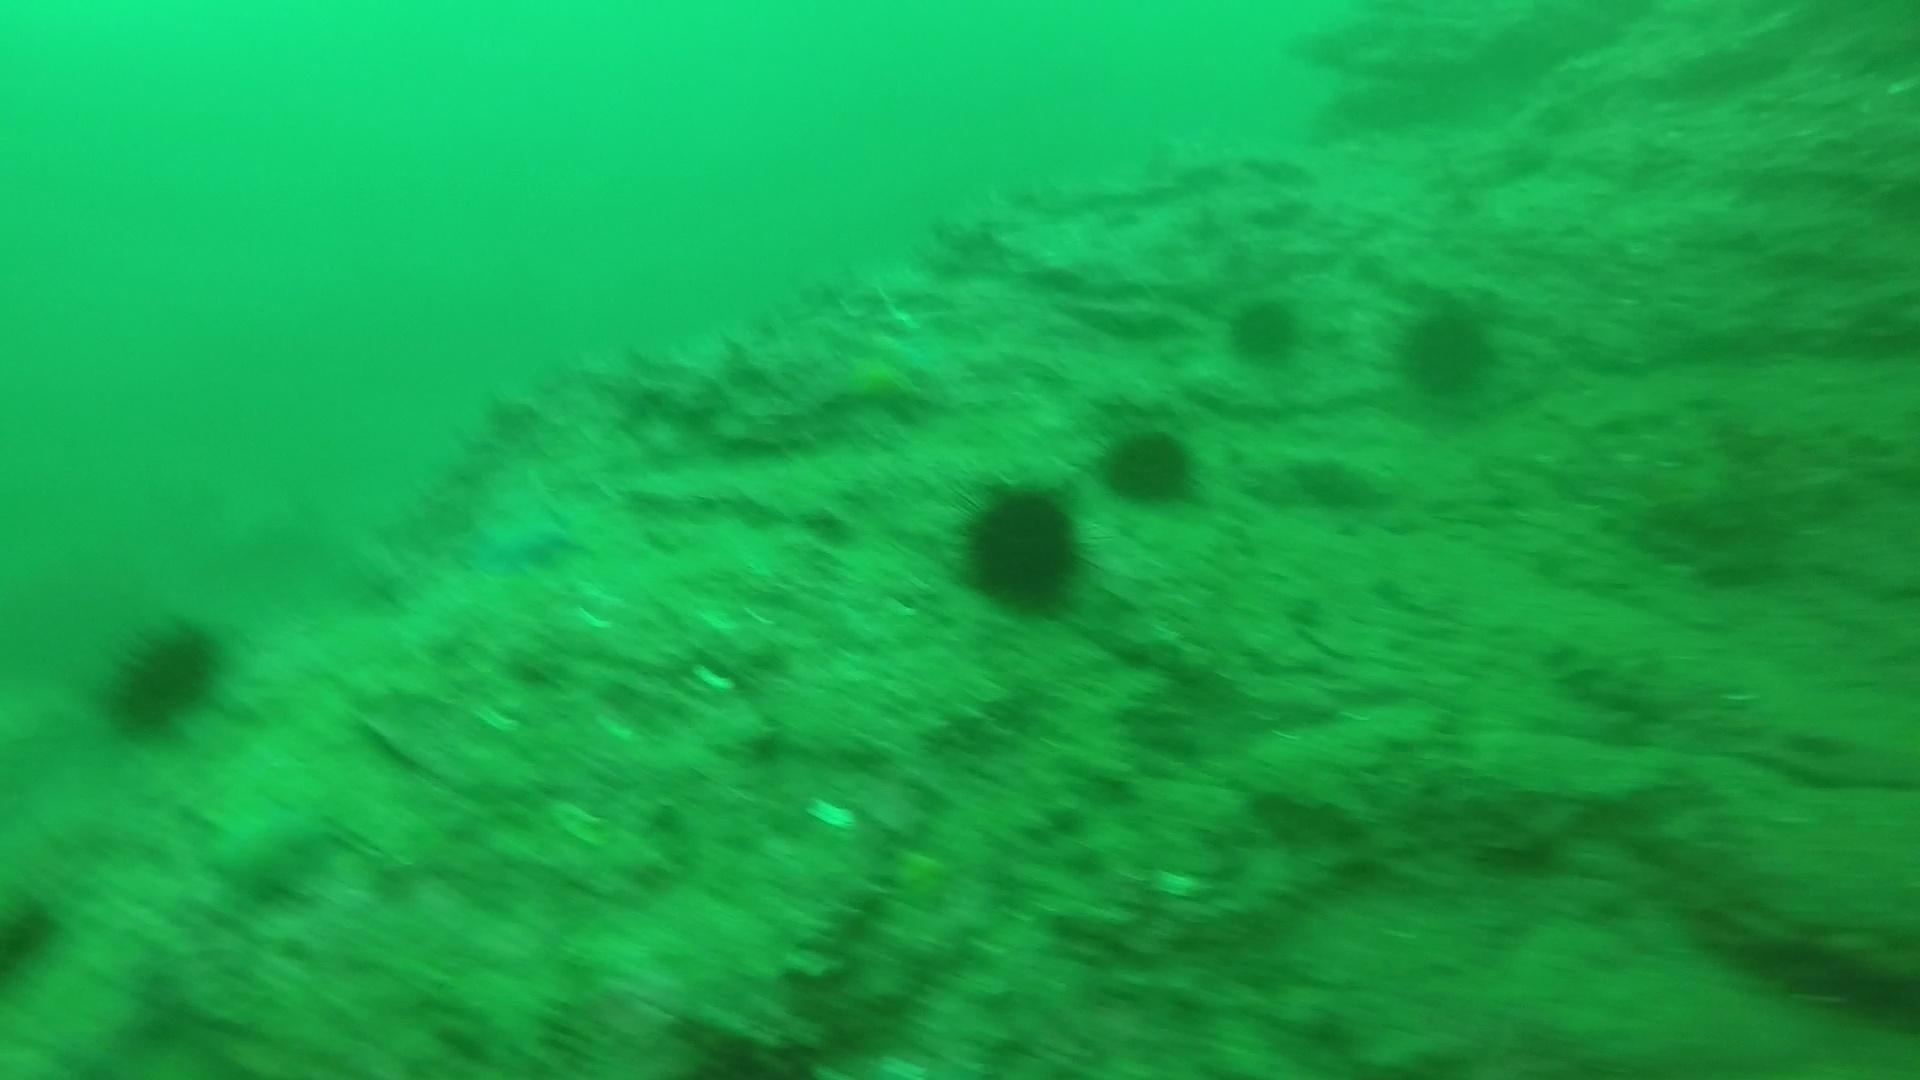echinus: (949, 473, 1093, 618), (96, 611, 232, 742), (1389, 291, 1505, 405), (1095, 417, 1205, 513), (1220, 287, 1309, 372), (0, 885, 67, 984)
starfish: (200, 791, 335, 905), (456, 473, 585, 578), (820, 327, 945, 426)
